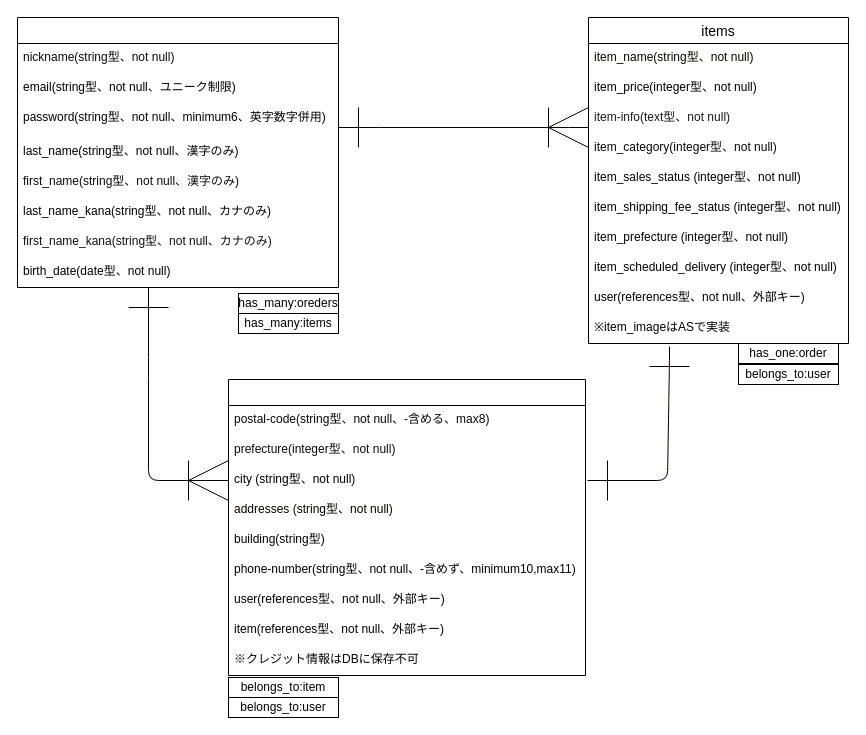
The diagram is 866 pixels wide and 735 high, and some of its shapes have lost their labels. Here are the shapes that lost their labels. From the top down, the box of each, then its label:
(16, 16, 338, 288): users
(228, 378, 586, 676): orders
